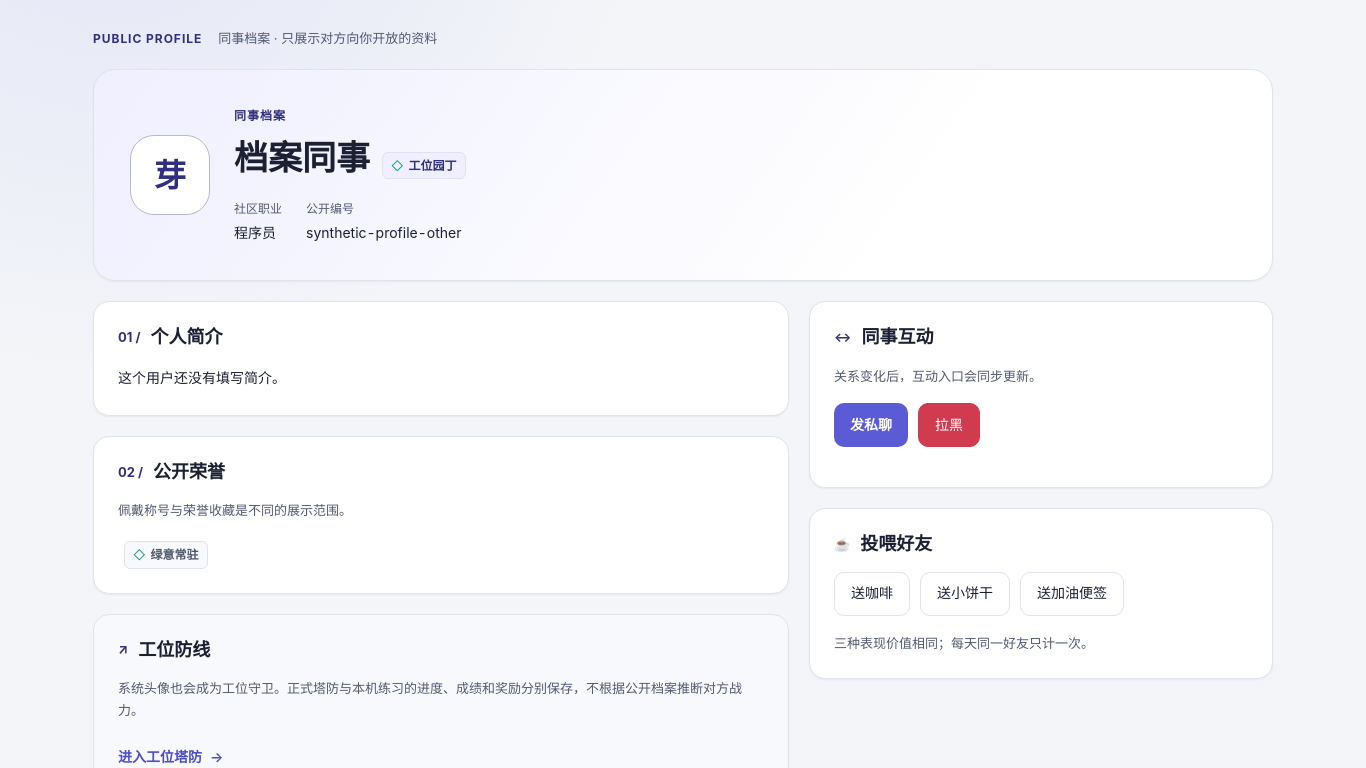
Test: public profile title privacy projection › keeps the newest restricted projection when an older concurrent reread finishes with friend
Expected: the element named "称号：绿意常驻" is shown, [124,541,208,569]
Click the button "拉黑".
click(949, 425)  # box [918,403,980,447]
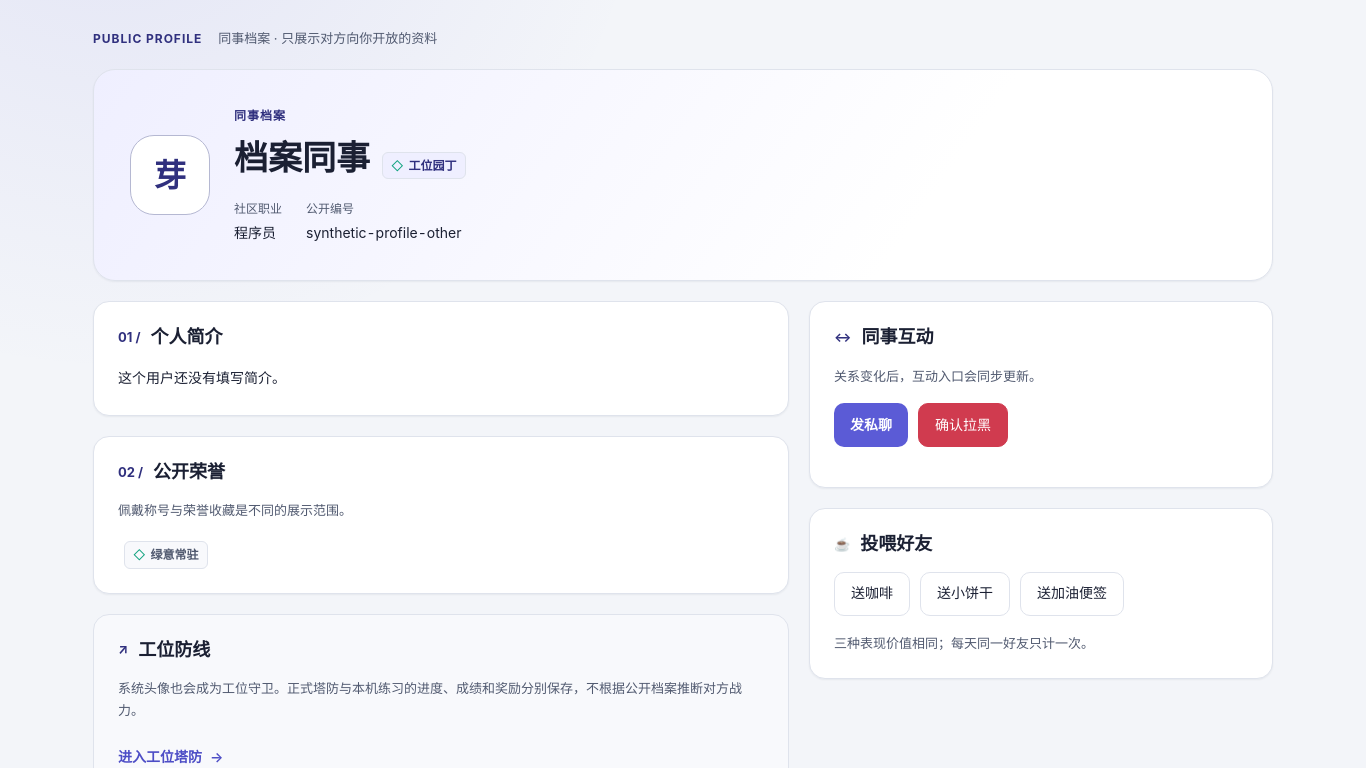
Click the button "送咖啡".
click(872, 594)  # box [834,572,910,616]
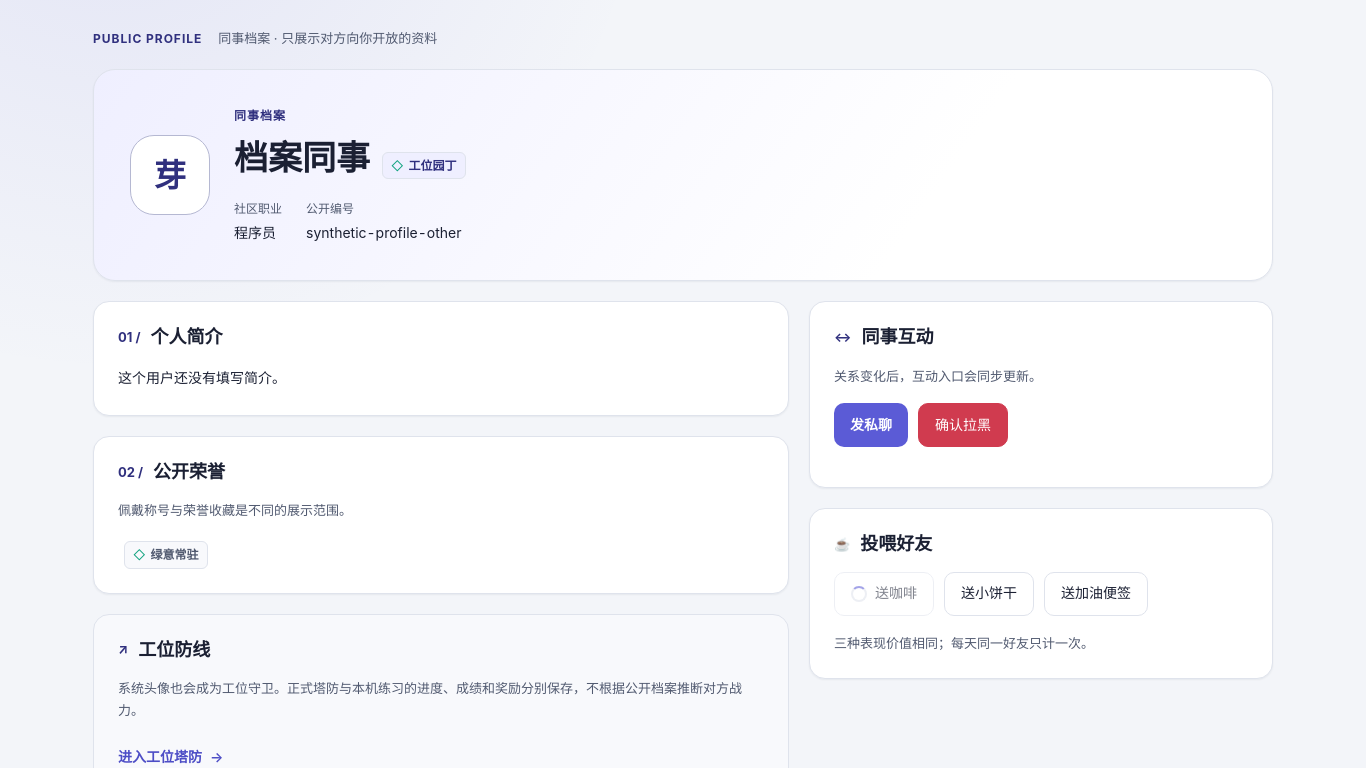
Click the button "确认拉黑".
click(963, 425)  # box [918,403,1008,447]
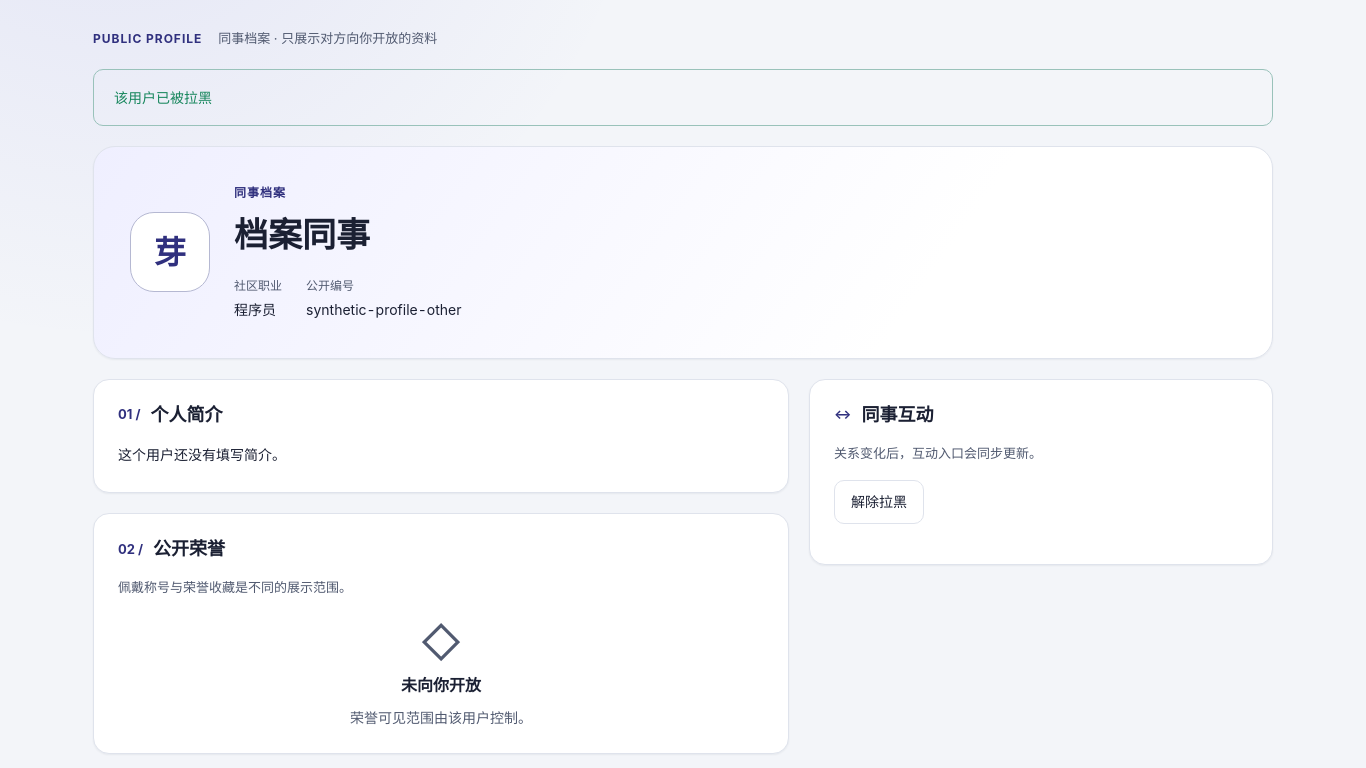
Now the field labelled "佩戴称号：工位园丁" is gone
Now the field labelled "称号：绿意常驻" is gone
Now the link "发私聊" is gone
